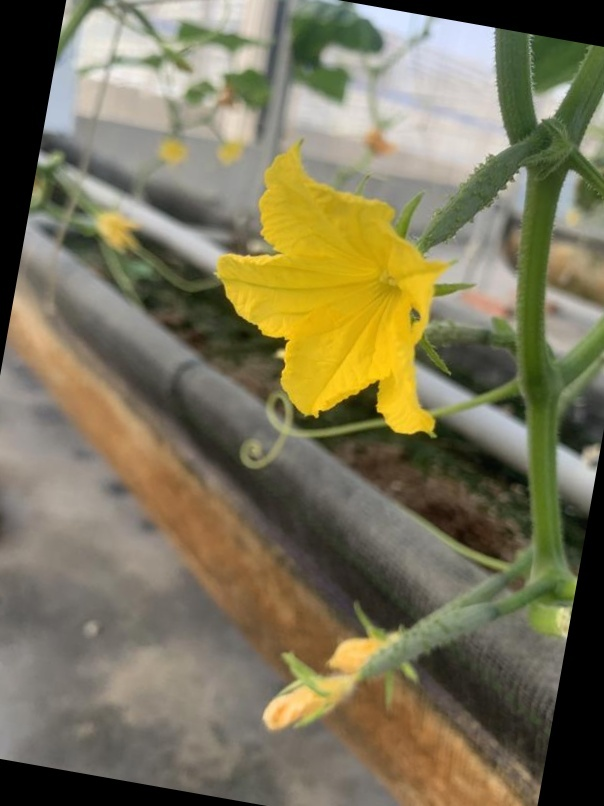flowering: (211, 144, 485, 448)
